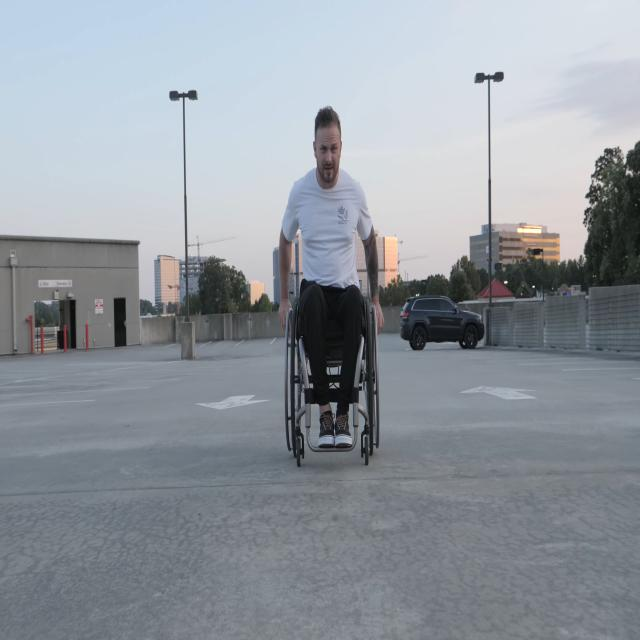wheelchairs: (283, 235, 382, 468)
